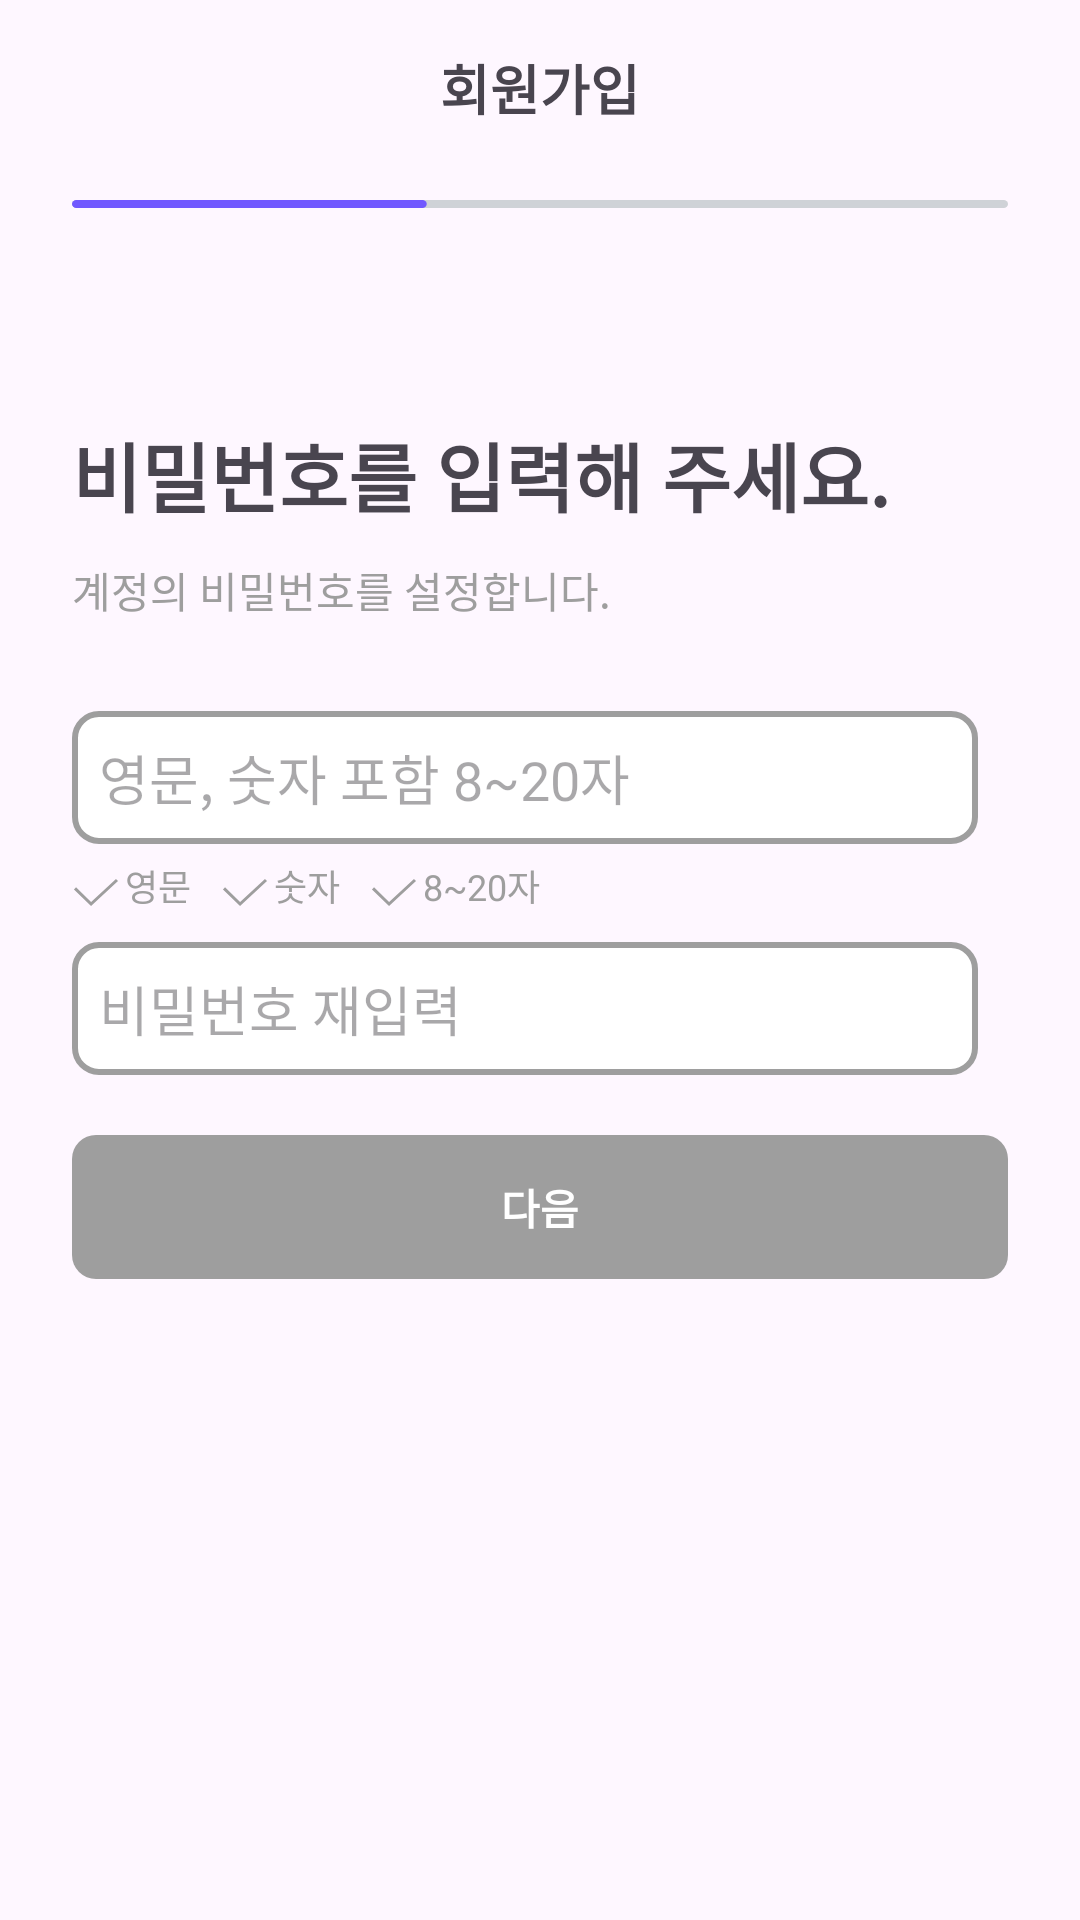

Icons on this 1080 × 1920 Android screen, each with its box as BBox(x1, y1, x2, y2):
check: BBox(74, 879, 118, 906), BBox(223, 879, 267, 906), BBox(372, 879, 416, 906)
